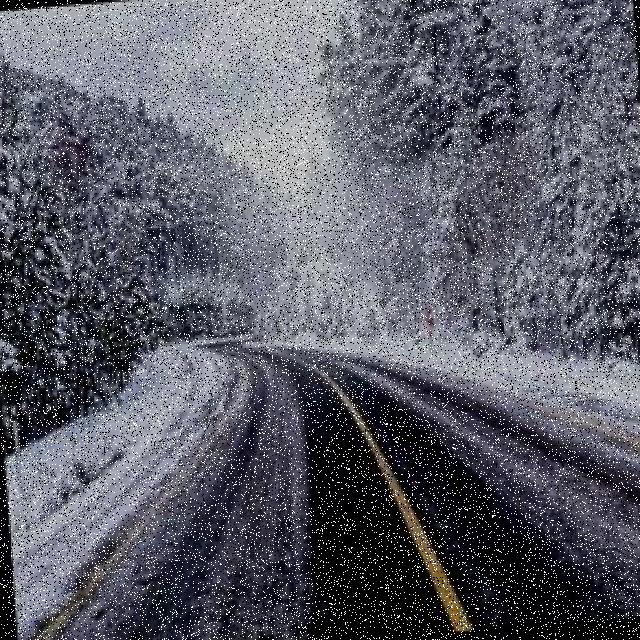ice-road: (40, 341, 640, 640)
